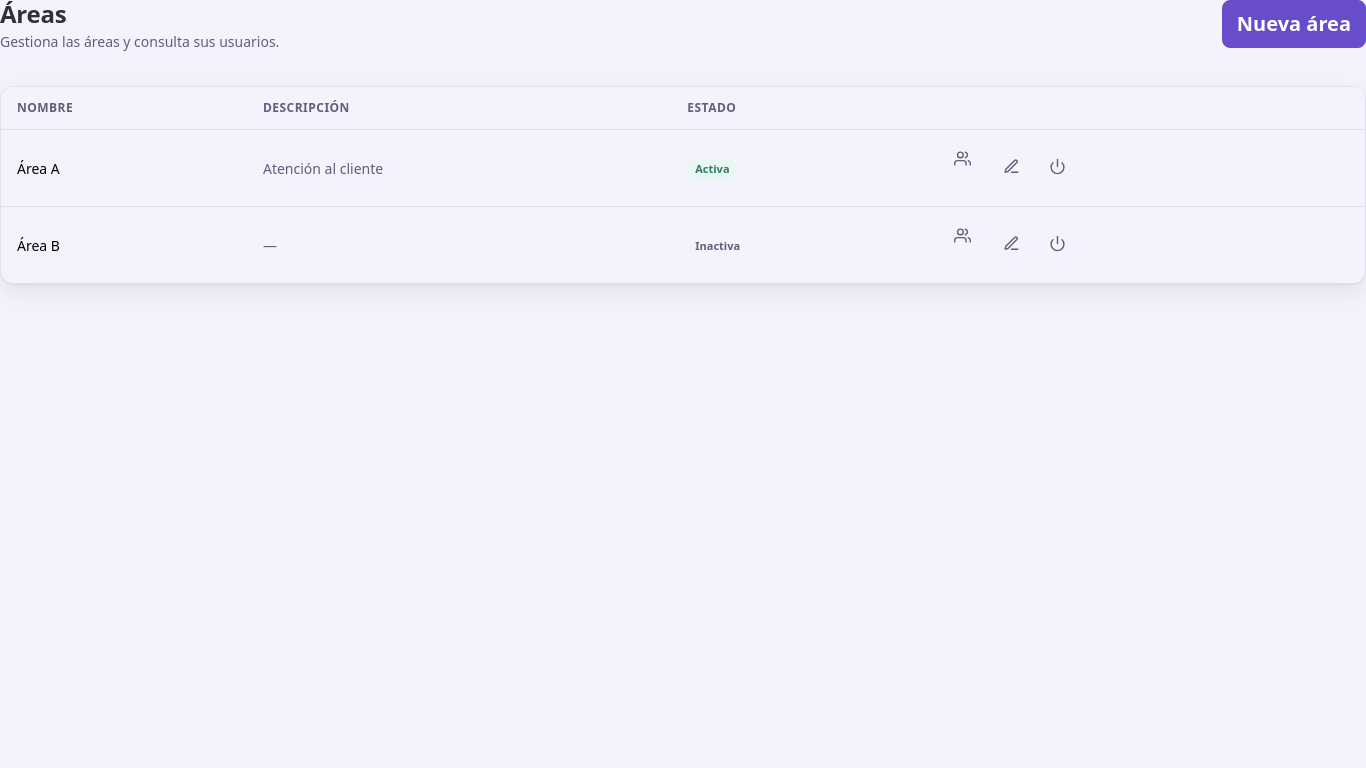
Test case: página de áreas › avisa cuando el nombre ya existe
Expected: the text "Área A" is shown, [1,130,247,206]
Click the button "Nueva área" at (1294, 24), box [1222,0,1365,48]
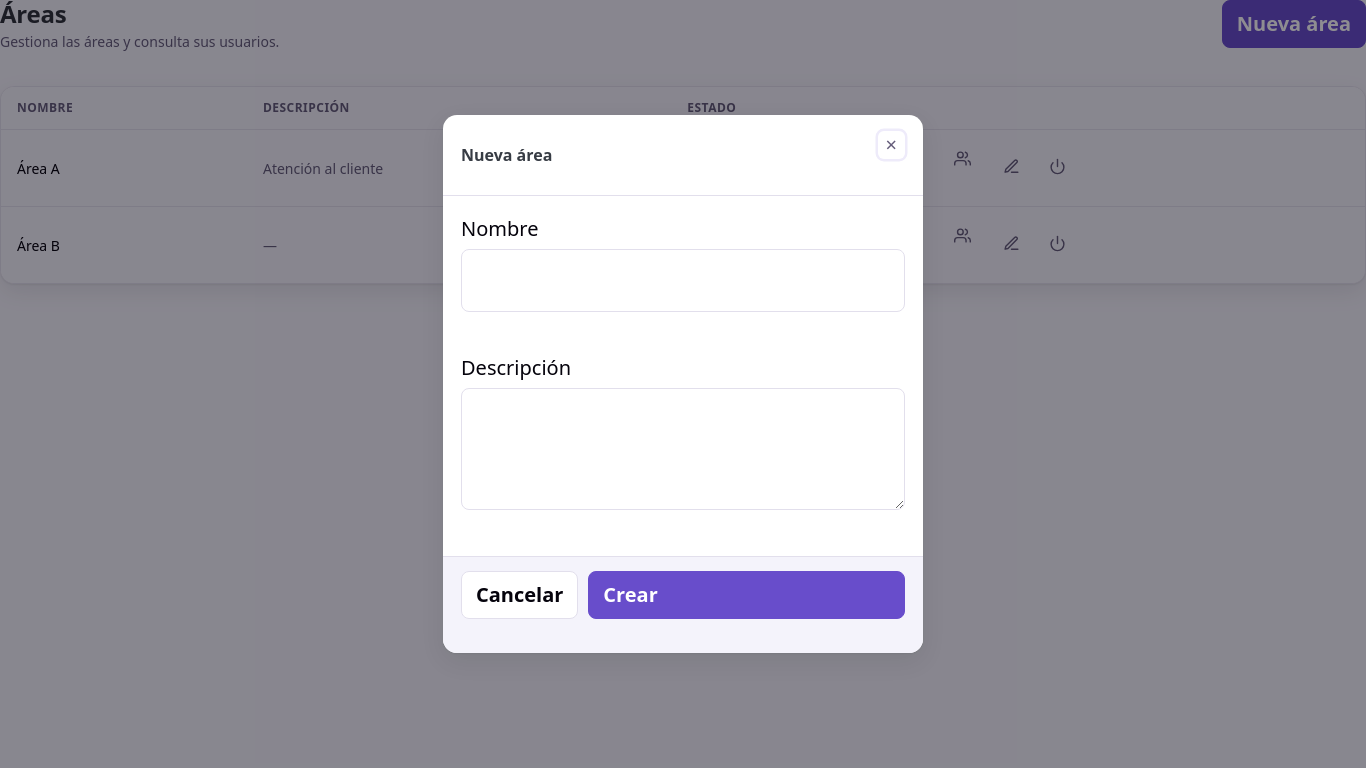
Type "Área A" into the field labelled "Nombre" at (683, 281), box [461,249,905,312]
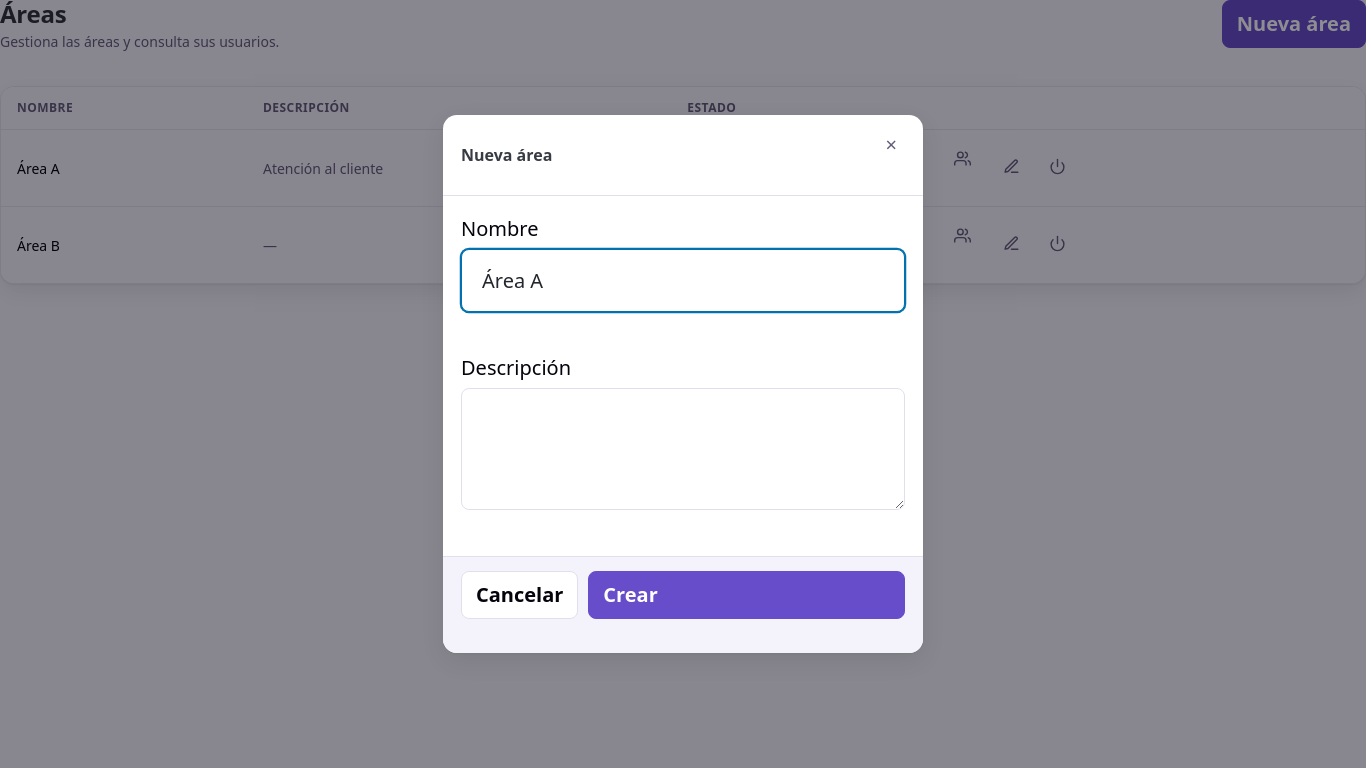
Click the button "Crear" at (631, 594), box [588,571,905,619]
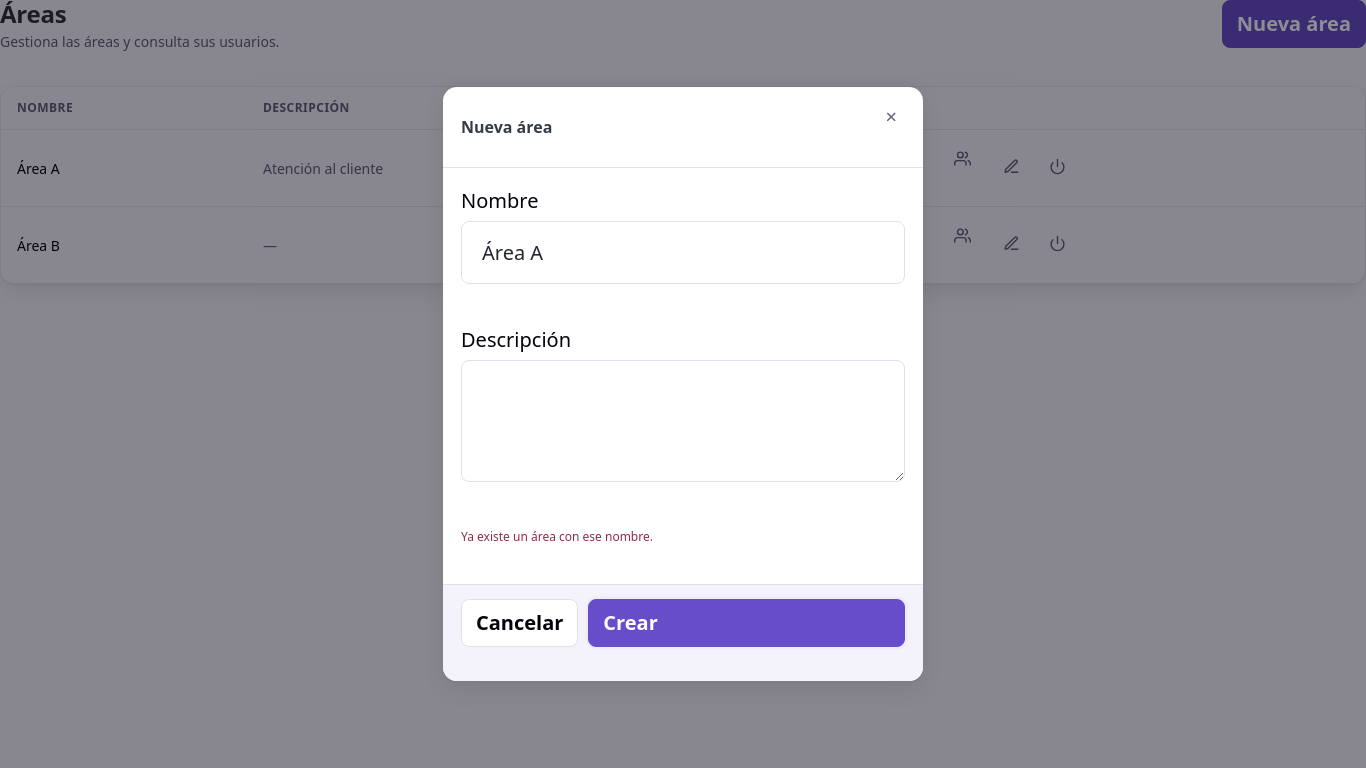
Expected: the text "Ya existe un área con ese nombre." is shown, [461,528,653,545]
